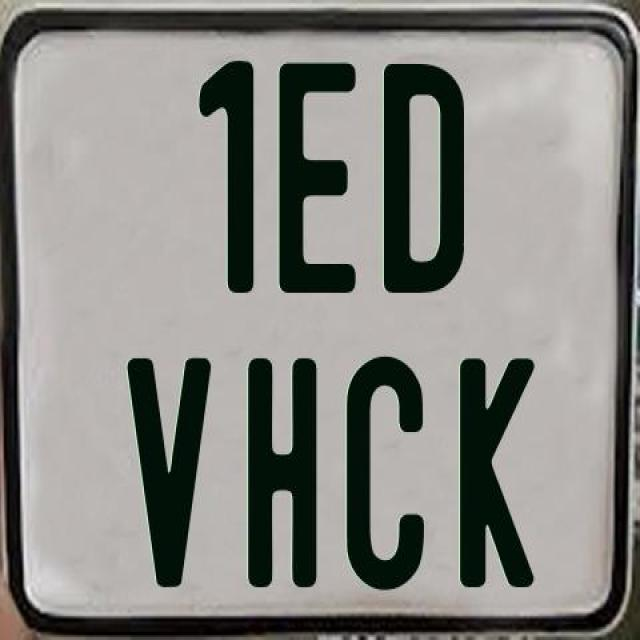1: (195, 58, 258, 290)
C: (342, 354, 424, 596)
D: (380, 62, 466, 292)
E: (278, 59, 358, 290)
H: (245, 358, 319, 592)
K: (458, 357, 542, 586)
V: (123, 358, 209, 590)
